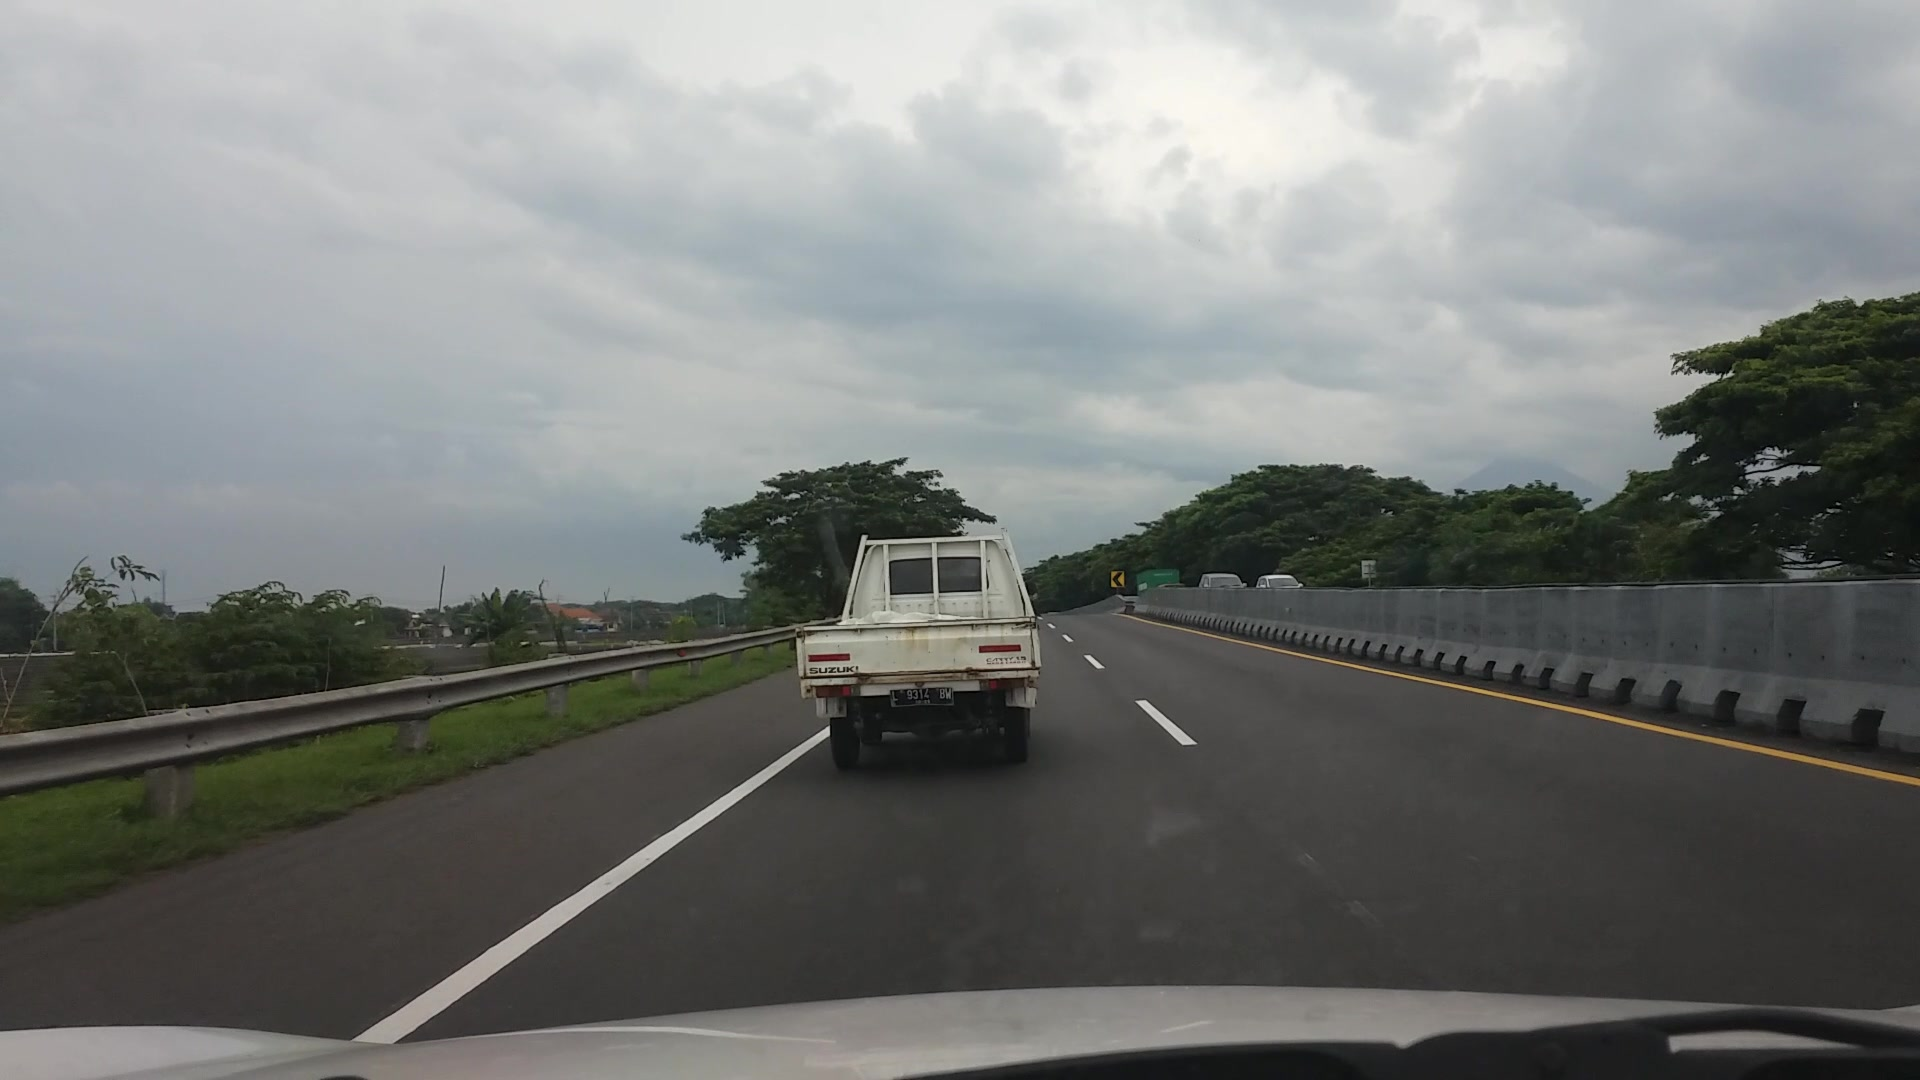plate_positive: (890, 687, 953, 707)
